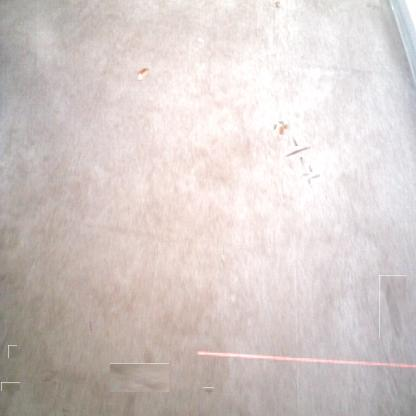dirty: (137, 68, 149, 80), (275, 122, 286, 133), (272, 1, 280, 10)
mark: (117, 356, 162, 400), (379, 275, 406, 338), (289, 141, 307, 161), (42, 368, 58, 384), (4, 379, 17, 394), (304, 169, 317, 182), (7, 346, 18, 357), (90, 321, 96, 335), (204, 386, 213, 394), (62, 407, 70, 415)
